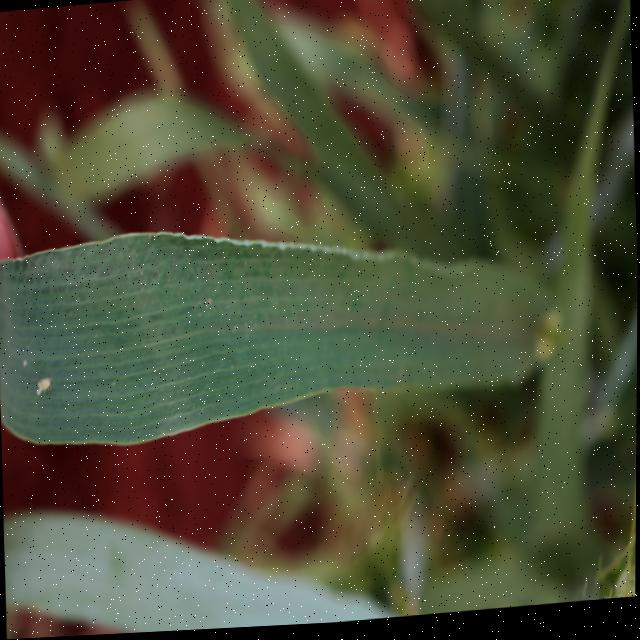healthy_wheat: (0, 185, 627, 464), (570, 501, 637, 608)
